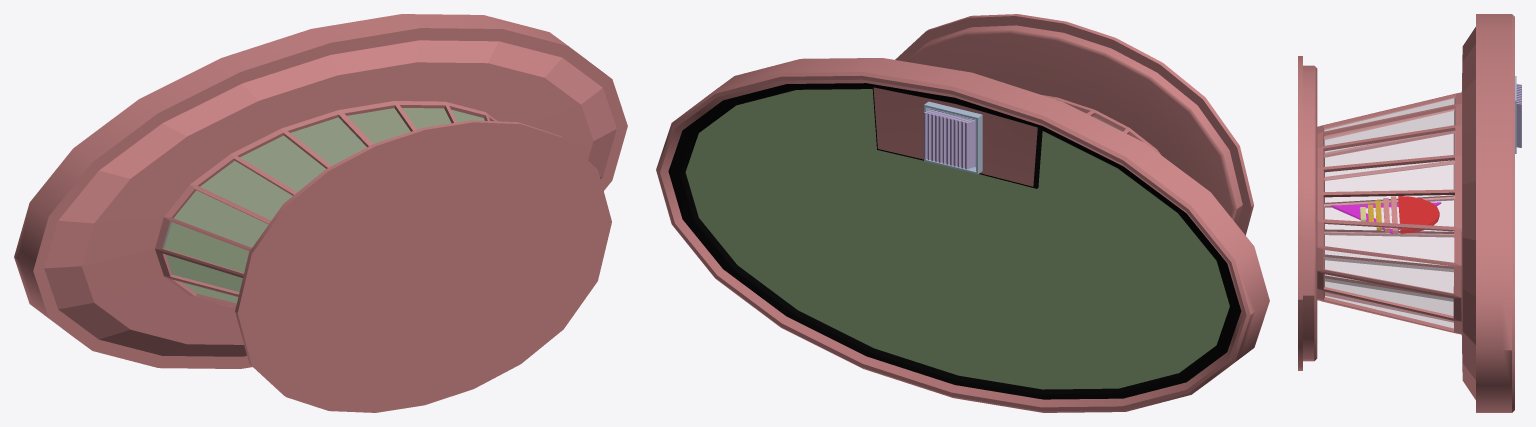
The model's file is 9_Seat_Poker_Table.fbx.
The picture shows the model from 3 angles, left to right: view 1: azimuth 30°, elevation 25°; view 2: azimuth 150°, elevation 25°; view 3: azimuth 270°, elevation 25°; orthographic projection. The views are drawn at different scales.
Parts seen in each view (by area): view 1: _Seat_Poker_Table; view 2: _Seat_Poker_Table; view 3: _Seat_Poker_Table.
Part boxes in pixels (box(x1,y1,x2,y2)): _Seat_Poker_Table: box(14, 14, 627, 412); _Seat_Poker_Table: box(656, 14, 1269, 412); _Seat_Poker_Table: box(1298, 14, 1521, 412).
Bounding box in the file's own units: 3.55 × 1.78 × 1.23.
